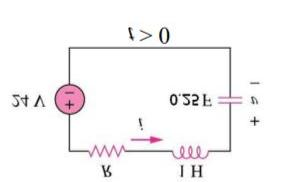inductor: (160, 141, 214, 161)
